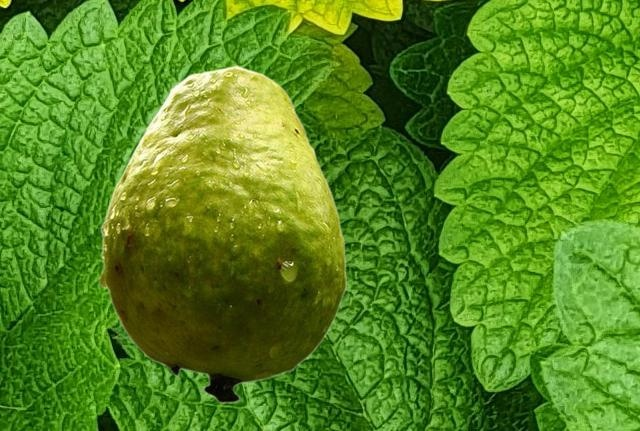guava: (98, 65, 346, 403)
